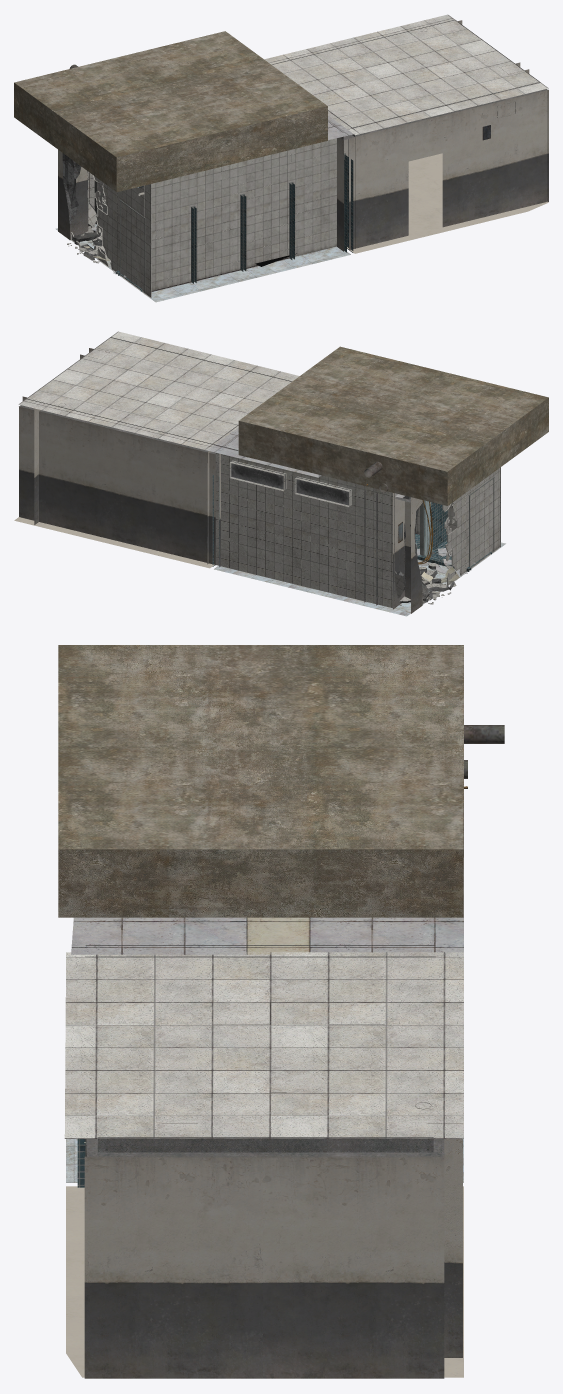
The picture shows the model from 3 angles, top to bottom: view 1: azimuth 30°, elevation 25°; view 2: azimuth 150°, elevation 25°; view 3: azimuth 270°, elevation 25°; orthographic projection. The views are drawn at different scales.
Parts seen in each view (by area): view 1: LOD_1_Group_0_Sub_9__st2_police2fLeftCeiling010, LOD_1_Group_0_Sub_4__st2_police2fLeftWall05, LOD_1_Group_0_Sub_5__st2_police2fLeftWall04, LOD_1_Group_0_Sub_7__st2_police2fLeftCeiling04, LOD_1_Group_0_Sub_1__st2_police2fLeftFloor04, LOD_1_Group_0_Sub_3__st2_police2fLeftOther01, LOD_1_Group_0_Sub_2__st2_police2fLeftFloor05, LOD_1_Group_0_Sub_6__st2_police2fLeftWall07, LOD_1_Group_0_Sub_8__st2_police2fLeftCeiling05; view 2: LOD_1_Group_0_Sub_9__st2_police2fLeftCeiling010, LOD_1_Group_0_Sub_5__st2_police2fLeftWall04, LOD_1_Group_0_Sub_4__st2_police2fLeftWall05, LOD_1_Group_0_Sub_7__st2_police2fLeftCeiling04, LOD_1_Group_0_Sub_3__st2_police2fLeftOther01, LOD_1_Group_0_Sub_11__st2_police2fLeftOther01_Glass, LOD_1_Group_0_Sub_2__st2_police2fLeftFloor05, LOD_1_Group_0_Sub_8__st2_police2fLeftCeiling05, LOD_1_Group_0_Sub_6__st2_police2fLeftWall07, LOD_1_Group_0_Sub_1__st2_police2fLeftFloor04, LOD_1_Group_0_Sub_20__st2_police1fLeftPipeline01, LOD_1_Group_0_Sub_14__st2_PoliceCurtain02; view 3: LOD_1_Group_0_Sub_9__st2_police2fLeftCeiling010, LOD_1_Group_0_Sub_5__st2_police2fLeftWall04, LOD_1_Group_0_Sub_7__st2_police2fLeftCeiling04, LOD_1_Group_0_Sub_8__st2_police2fLeftCeiling05, LOD_1_Group_0_Sub_3__st2_police2fLeftOther01, LOD_1_Group_0_Sub_1__st2_police2fLeftFloor04, LOD_1_Group_0_Sub_20__st2_police1fLeftPipeline01.
Boxes of the visible parts, bbox=[...] form: LOD_1_Group_0_Sub_9__st2_police2fLeftCeiling010: bbox=[14, 31, 327, 192]; LOD_1_Group_0_Sub_4__st2_police2fLeftWall05: bbox=[67, 138, 336, 298]; LOD_1_Group_0_Sub_5__st2_police2fLeftWall04: bbox=[58, 20, 548, 251]; LOD_1_Group_0_Sub_7__st2_police2fLeftCeiling04: bbox=[264, 14, 548, 135]; LOD_1_Group_0_Sub_1__st2_police2fLeftFloor04: bbox=[347, 153, 548, 253]; LOD_1_Group_0_Sub_3__st2_police2fLeftOther01: bbox=[62, 20, 546, 293]; LOD_1_Group_0_Sub_2__st2_police2fLeftFloor05: bbox=[55, 224, 350, 302]; LOD_1_Group_0_Sub_6__st2_police2fLeftWall07: bbox=[115, 154, 353, 291]; LOD_1_Group_0_Sub_8__st2_police2fLeftCeiling05: bbox=[83, 114, 355, 281]; LOD_1_Group_0_Sub_9__st2_police2fLeftCeiling010: bbox=[238, 346, 548, 505]; LOD_1_Group_0_Sub_5__st2_police2fLeftWall04: bbox=[19, 348, 422, 613]; LOD_1_Group_0_Sub_4__st2_police2fLeftWall05: bbox=[215, 453, 500, 608]; LOD_1_Group_0_Sub_7__st2_police2fLeftCeiling04: bbox=[18, 331, 299, 450]; LOD_1_Group_0_Sub_3__st2_police2fLeftOther01: bbox=[19, 337, 494, 605]; LOD_1_Group_0_Sub_11__st2_police2fLeftOther01_Glass: bbox=[230, 461, 350, 505]; LOD_1_Group_0_Sub_2__st2_police2fLeftFloor05: bbox=[214, 542, 505, 616]; LOD_1_Group_0_Sub_8__st2_police2fLeftCeiling05: bbox=[207, 428, 475, 597]; LOD_1_Group_0_Sub_6__st2_police2fLeftWall07: bbox=[212, 475, 491, 571]; LOD_1_Group_0_Sub_1__st2_police2fLeftFloor04: bbox=[14, 517, 214, 568]; LOD_1_Group_0_Sub_20__st2_police1fLeftPipeline01: bbox=[364, 461, 433, 564]; LOD_1_Group_0_Sub_14__st2_PoliceCurtain02: bbox=[415, 500, 432, 556]; LOD_1_Group_0_Sub_9__st2_police2fLeftCeiling010: bbox=[58, 645, 463, 917]; LOD_1_Group_0_Sub_5__st2_police2fLeftWall04: bbox=[84, 1123, 462, 1378]; LOD_1_Group_0_Sub_7__st2_police2fLeftCeiling04: bbox=[64, 952, 463, 1138]; LOD_1_Group_0_Sub_8__st2_police2fLeftCeiling05: bbox=[71, 858, 463, 954]; LOD_1_Group_0_Sub_3__st2_police2fLeftOther01: bbox=[85, 945, 444, 1157]; LOD_1_Group_0_Sub_1__st2_police2fLeftFloor04: bbox=[66, 1186, 463, 1377]; LOD_1_Group_0_Sub_20__st2_police1fLeftPipeline01: bbox=[464, 725, 504, 788].
Bounding box in the file's own units: 13.55 × 4.89 × 6.03.
